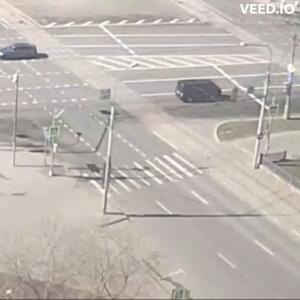car: (178, 77, 224, 108), (1, 43, 49, 61)
